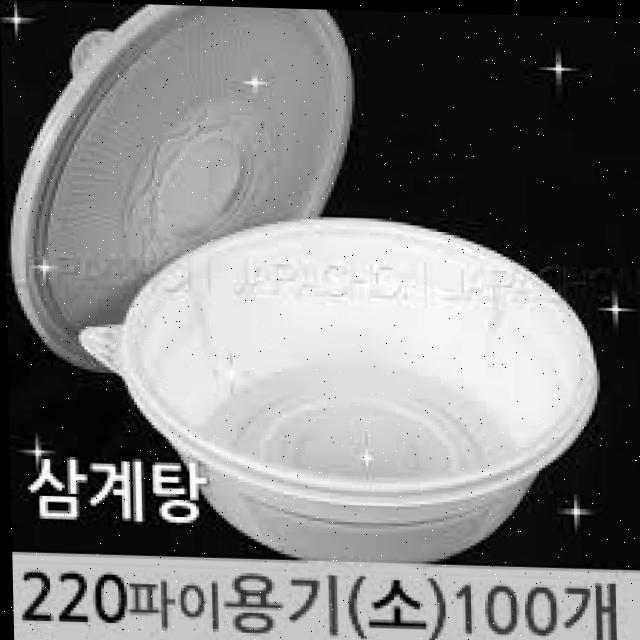disposable: (80, 193, 630, 584)
